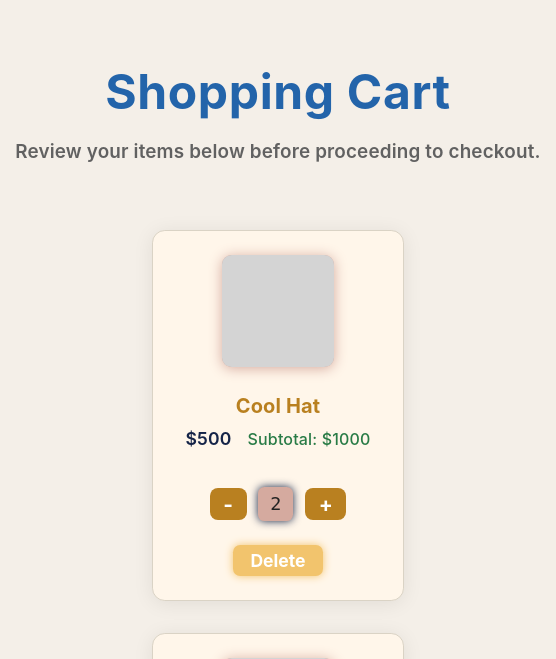
Scenario: Cart Page › updates item quantity, subtotal, and summary when decrement button is clicked
Step 1. Click the button "-" → (228, 504), box [210,488,246,520]
(page scrolled)
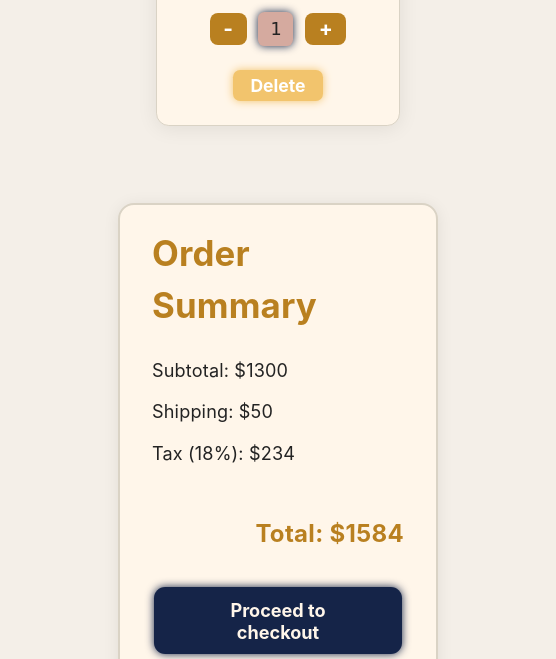
Check: the text with test id "checkout-subtotal" reads "Subtotal: $1300", box [152,359,288,381]
Check: the text with test id "order-total" reads "Total: $1584", box [255,519,404,548]
